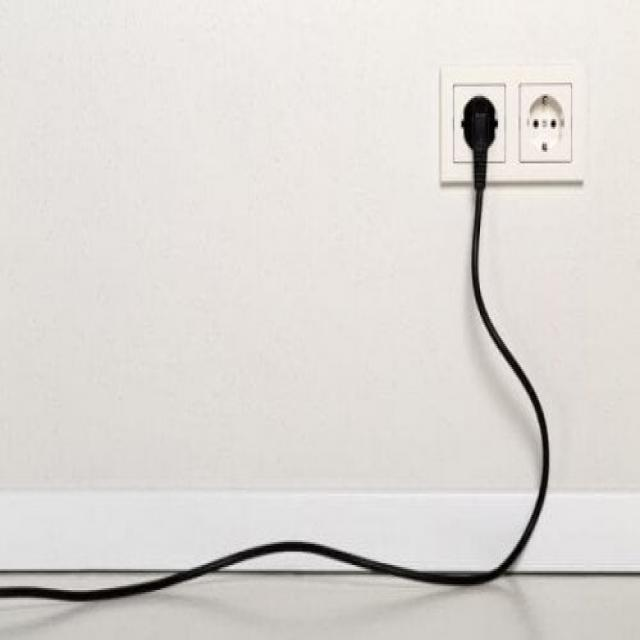typeb: (518, 43, 604, 208), (434, 46, 514, 200)
